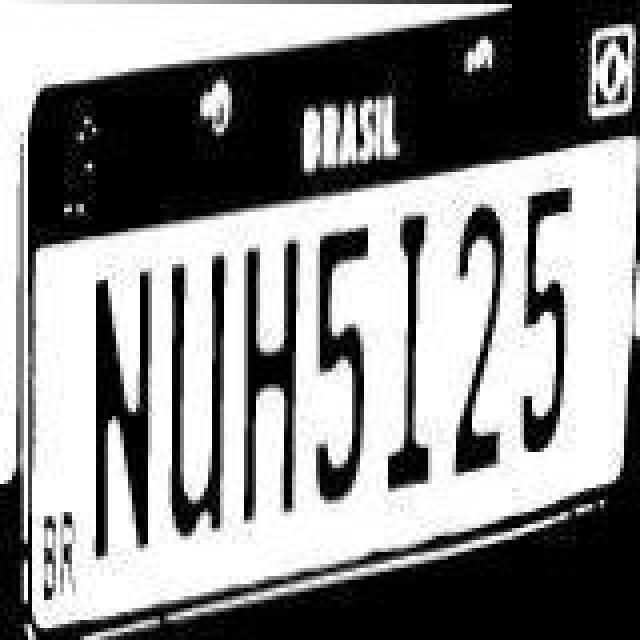2: (444, 176, 516, 460)
5: (310, 200, 378, 484), (520, 166, 584, 434)
H: (236, 218, 308, 506)
I: (380, 186, 444, 474)
N: (88, 250, 160, 558)
U: (160, 232, 232, 532)
